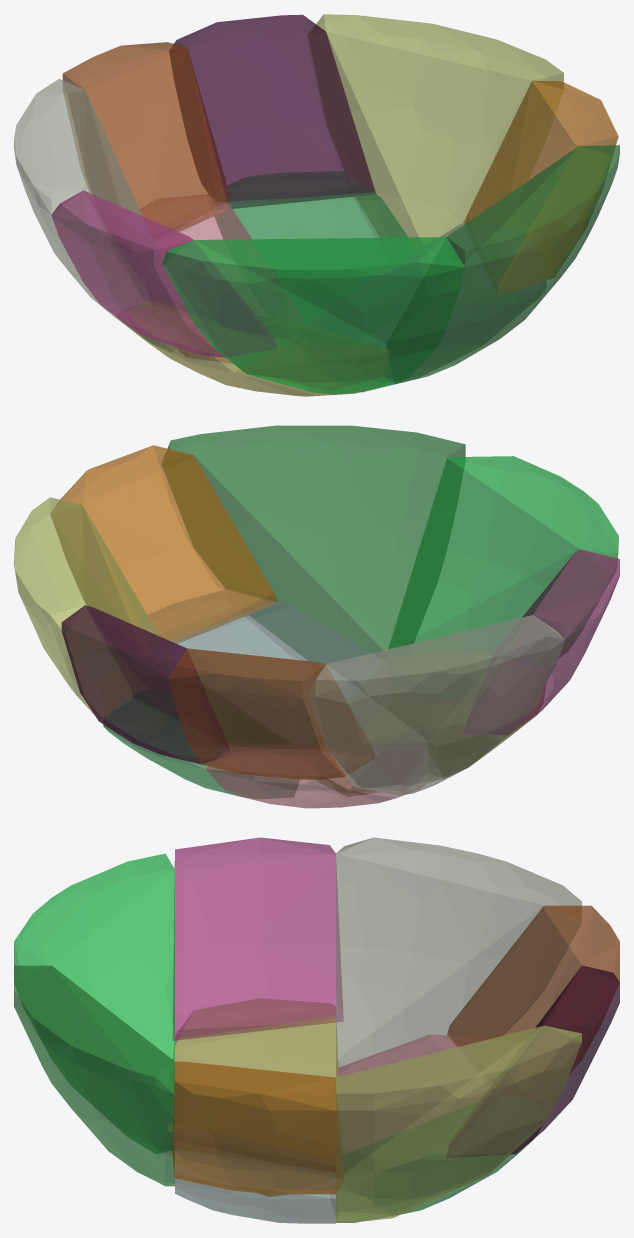
3 renders of one model, top to bottom at view 1: azimuth 30°, elevation 25°; view 2: azimuth 150°, elevation 25°; view 3: azimuth 270°, elevation 25°, orthographic. The views are drawn at different scales.
Parts seen in each view (by area): view 1: Shape_IndexedFaceSet.002, Shape_IndexedFaceSet.001, Shape_IndexedFaceSet.009, Shape_IndexedFaceSet.003, Shape_IndexedFaceSet.005, Shape_IndexedFaceSet, Shape_IndexedFaceSet.007, Shape_IndexedFaceSet.011, Shape_IndexedFaceSet.008, Shape_IndexedFaceSet.006, Shape_IndexedFaceSet.010, Shape_IndexedFaceSet.004; view 2: Shape_IndexedFaceSet.003, Shape_IndexedFaceSet.001, Shape_IndexedFaceSet, Shape_IndexedFaceSet.011, Shape_IndexedFaceSet.005, Shape_IndexedFaceSet.010, Shape_IndexedFaceSet.002, Shape_IndexedFaceSet.009, Shape_IndexedFaceSet.007, Shape_IndexedFaceSet.004, Shape_IndexedFaceSet.006, Shape_IndexedFaceSet.008; view 3: Shape_IndexedFaceSet, Shape_IndexedFaceSet.001, Shape_IndexedFaceSet.007, Shape_IndexedFaceSet.002, Shape_IndexedFaceSet.006, Shape_IndexedFaceSet.011, Shape_IndexedFaceSet.003, Shape_IndexedFaceSet.005, Shape_IndexedFaceSet.009, Shape_IndexedFaceSet.004, Shape_IndexedFaceSet.008, Shape_IndexedFaceSet.010.
Boxes of the visible parts, box(x1,y1,x2,y2) form: Shape_IndexedFaceSet.002: box(308, 14, 563, 250); Shape_IndexedFaceSet.001: box(162, 237, 464, 394); Shape_IndexedFaceSet.009: box(169, 14, 375, 209); Shape_IndexedFaceSet.003: box(386, 145, 619, 383); Shape_IndexedFaceSet.005: box(62, 42, 232, 231); Shape_IndexedFaceSet: box(14, 79, 180, 352); Shape_IndexedFaceSet.007: box(51, 190, 276, 357); Shape_IndexedFaceSet.011: box(463, 80, 618, 294); Shape_IndexedFaceSet.008: box(214, 171, 416, 322); Shape_IndexedFaceSet.006: box(116, 300, 390, 396); Shape_IndexedFaceSet.010: box(334, 223, 545, 384); Shape_IndexedFaceSet.004: box(139, 195, 301, 363); Shape_IndexedFaceSet.003: box(162, 425, 465, 663); Shape_IndexedFaceSet.001: box(387, 456, 618, 657); Shape_IndexedFaceSet: box(308, 615, 564, 795); Shape_IndexedFaceSet.011: box(50, 445, 277, 643); Shape_IndexedFaceSet.005: box(168, 648, 375, 779); Shape_IndexedFaceSet.010: box(148, 589, 379, 743); Shape_IndexedFaceSet.002: box(14, 497, 174, 722); Shape_IndexedFaceSet.009: box(61, 605, 231, 764); Shape_IndexedFaceSet.007: box(462, 549, 619, 734); Shape_IndexedFaceSet.004: box(205, 744, 426, 808); Shape_IndexedFaceSet.006: box(318, 654, 545, 796); Shape_IndexedFaceSet.008: box(103, 691, 299, 798); Shape_IndexedFaceSet: box(336, 837, 581, 1075); Shape_IndexedFaceSet.001: box(14, 853, 174, 1153); Shape_IndexedFaceSet.007: box(173, 837, 343, 1040); Shape_IndexedFaceSet.002: box(336, 1025, 581, 1222); Shape_IndexedFaceSet.006: box(167, 998, 338, 1196); Shape_IndexedFaceSet.011: box(172, 1061, 343, 1194); Shape_IndexedFaceSet.003: box(14, 965, 174, 1186); Shape_IndexedFaceSet.005: box(447, 905, 619, 1074); Shape_IndexedFaceSet.009: box(446, 965, 619, 1157); Shape_IndexedFaceSet.004: box(336, 1034, 488, 1155); Shape_IndexedFaceSet.008: box(336, 1102, 540, 1222); Shape_IndexedFaceSet.010: box(175, 1149, 337, 1223).
Bounding box in the file's own units: 0.6897 × 0.291 × 0.6897.
